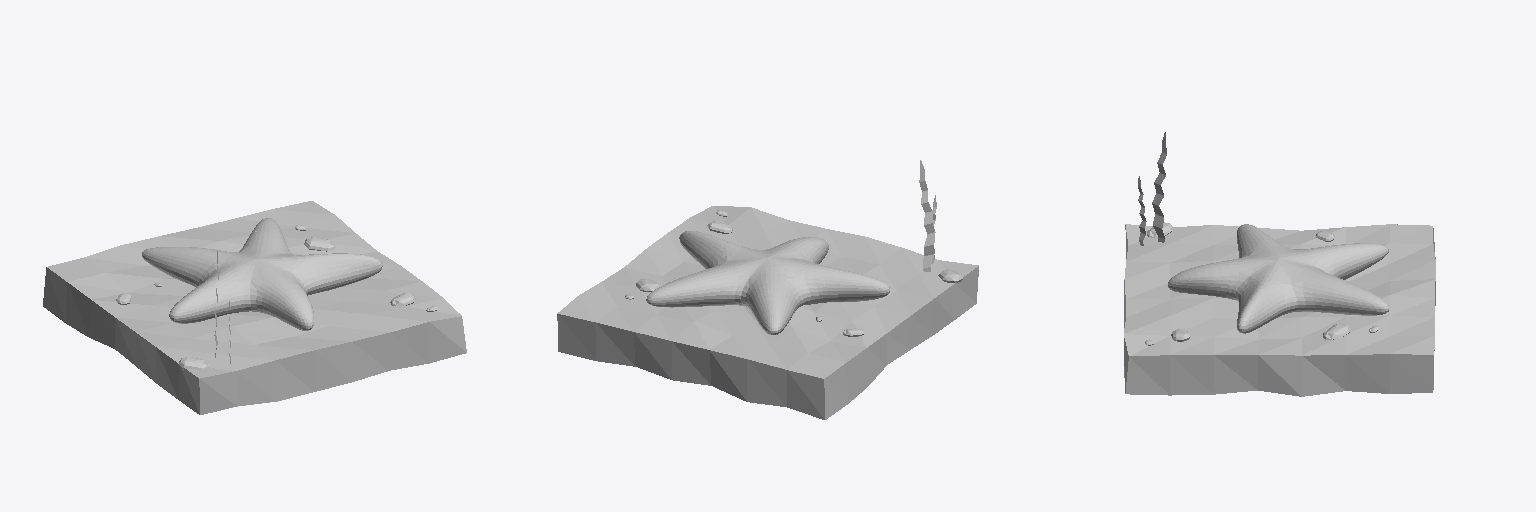
File: Lowpoly_Starfish.obj
3 views of the same model, side by side, from view 1: azimuth 30°, elevation 25°; view 2: azimuth 150°, elevation 25°; view 3: azimuth 270°, elevation 25° (orthographic).
Visible parts, largest first — view 1: Sand, Starfish_1; view 2: Sand, Starfish_1, Seeaweed_1; view 3: Sand, Starfish_1, Seeaweed_1.
Boxes of the visible parts, box(x1,y1,x2,y2) form: Sand: box(43, 201, 466, 414); Starfish_1: box(142, 218, 382, 330); Sand: box(557, 206, 978, 419); Starfish_1: box(646, 231, 889, 334); Seeaweed_1: box(919, 160, 935, 271); Sand: box(1124, 224, 1435, 396); Starfish_1: box(1168, 224, 1388, 333); Seeaweed_1: box(1152, 132, 1166, 242).
Bounding box in the file's own units: 555 × 304 × 556.